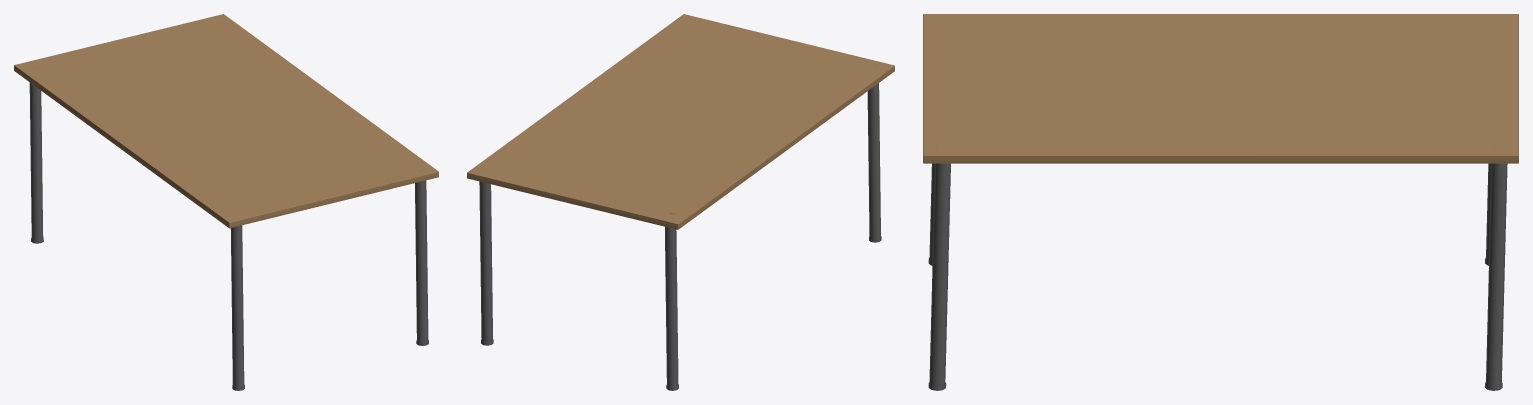
File: table.fbx
3 renders of one model, left to right at view 1: azimuth 30°, elevation 25°; view 2: azimuth 150°, elevation 25°; view 3: azimuth 270°, elevation 25°, orthographic. The views are drawn at different scales.
Parts seen in each view (by area): view 1: Table; view 2: Table; view 3: Table.
Boxes of the visible parts, <box> form: Table: <box>14,14,438,390</box>; Table: <box>467,14,894,390</box>; Table: <box>923,14,1518,390</box>.
Size of the model in its own units: 142 by 112 by 253.
